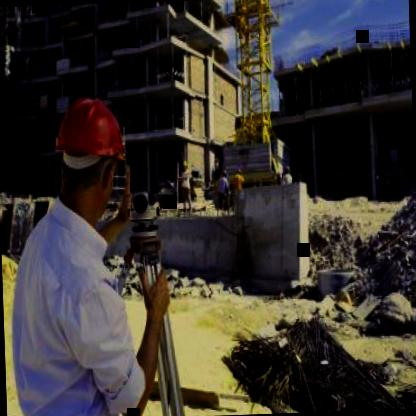helmet: (45, 84, 137, 224)
